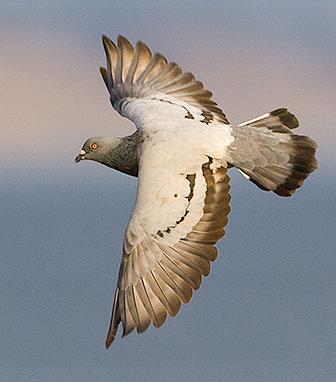Flying Rat: (82, 32, 312, 352)
